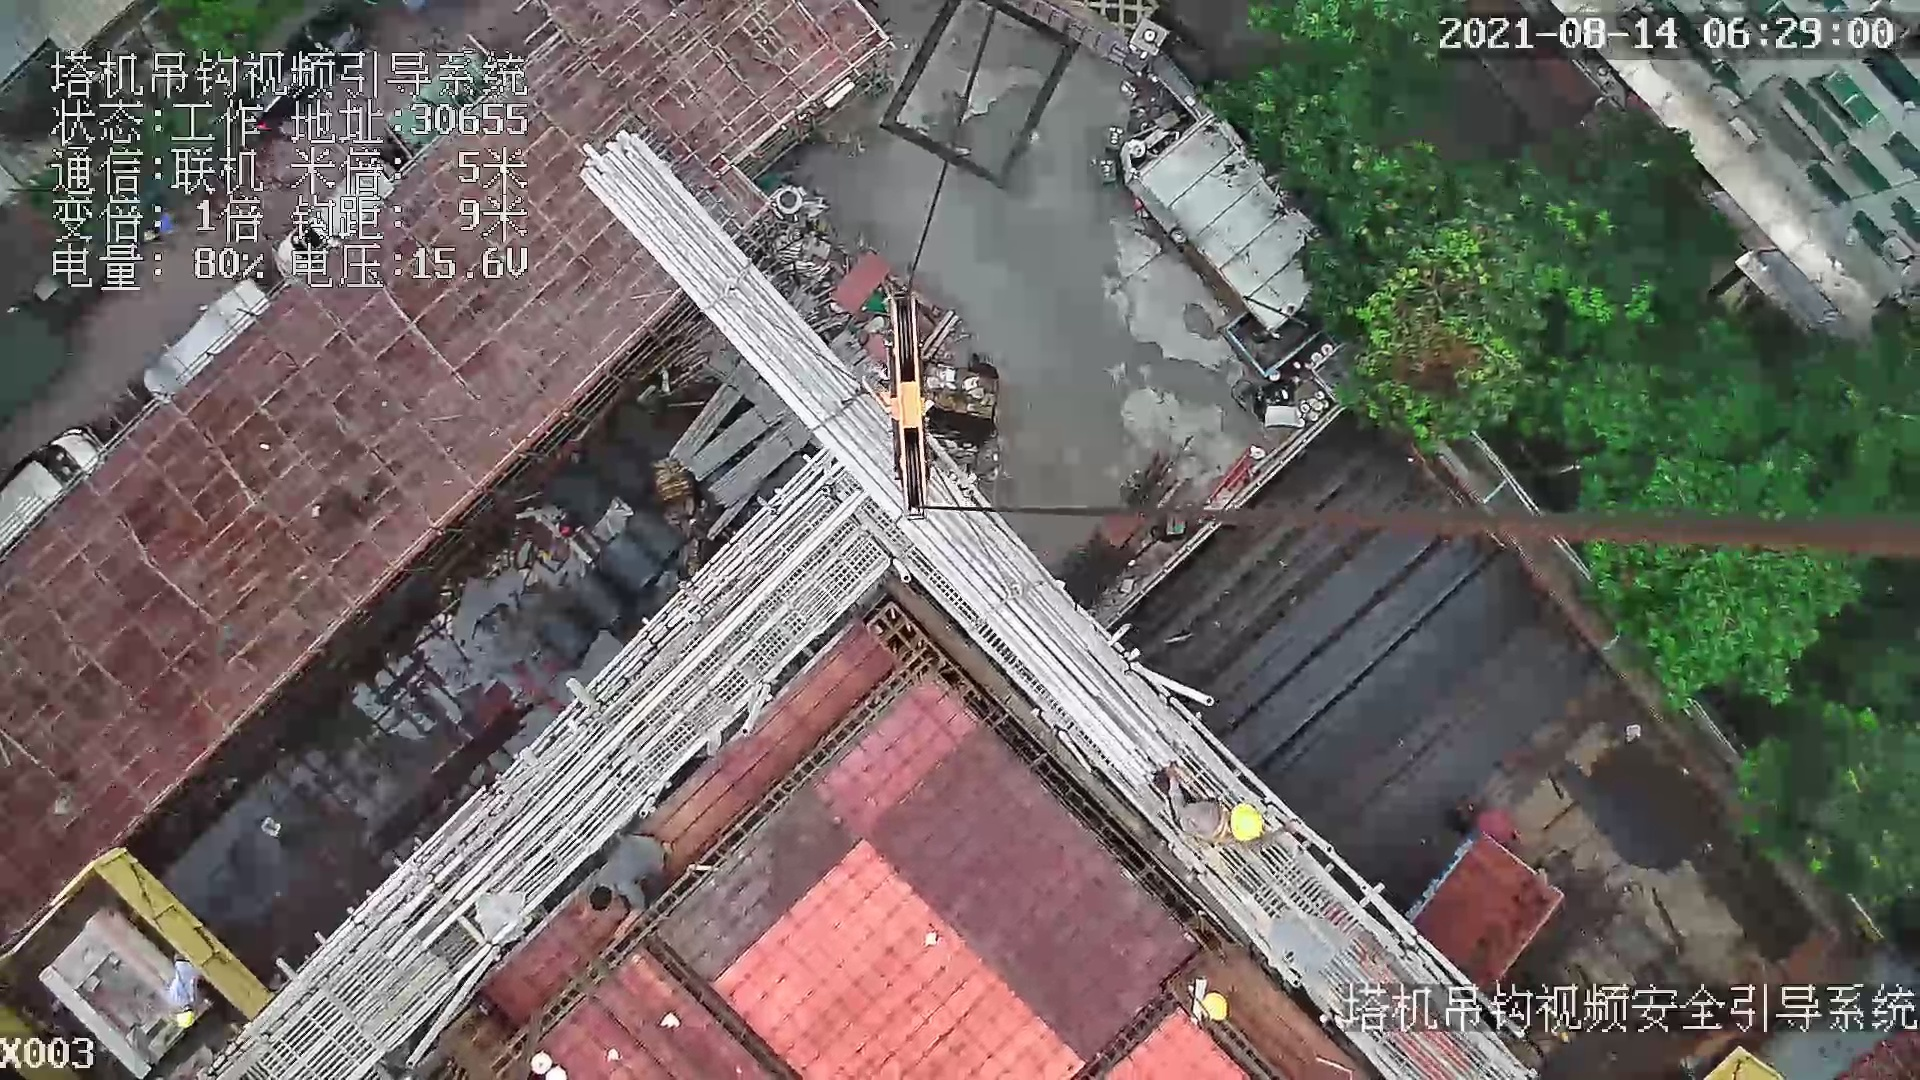helmet: (1224, 808, 1267, 845), (1197, 997, 1233, 1032)
hook: (877, 295, 929, 523)
person: (1159, 756, 1309, 858)
rebar: (1149, 454, 1570, 808)
